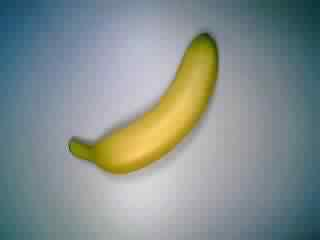banana: (63, 27, 223, 181)
